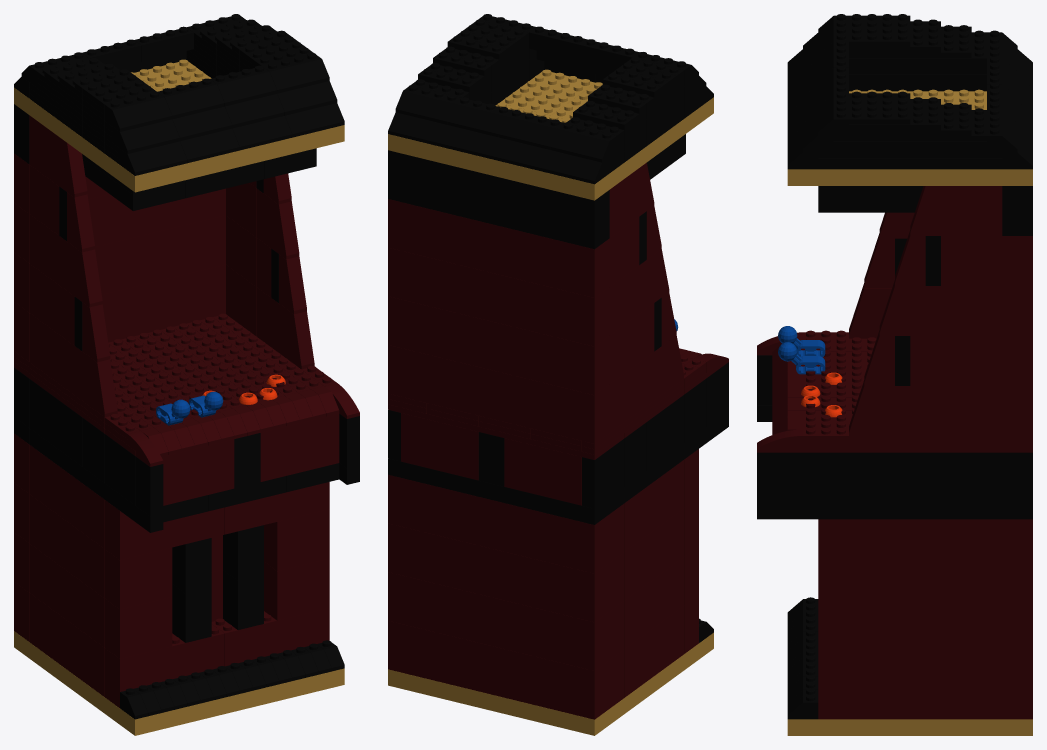
The model's file is Arcade machine Final.dae.
3 renders of one model, left to right at view 1: azimuth 30°, elevation 25°; view 2: azimuth 150°, elevation 25°; view 3: azimuth 270°, elevation 25°, orthographic. The views are drawn at different scales.
Parts seen in each view (by area): view 1: Part.377, Part.376, Part.84, Part.90, Part.83, Part.89, Part.307, Part.310, Part.193, Part.189, Part.82, Part.86 (+114 smaller); view 2: Part.379, Part.378, Part.142, Part.199, Part.166, Part.187, Part.114, Part.191, Part.195, Part.118, Part.311, Part.304 (+103 smaller); view 3: Part.331, Part.332, Part.334, Part.336, Part.338, Part.339, Part.303, Part.77, Part.306, Part.309, Part.305, Part.308 (+103 smaller).
Part boxes in pixels (x1,y1,x2,y2): Part.377: [260, 413, 339, 481]; Part.376: [161, 439, 234, 505]; Part.84: [105, 597, 172, 658]; Part.90: [105, 547, 172, 609]; Part.83: [264, 558, 329, 620]; Part.89: [264, 509, 329, 570]; Part.307: [74, 675, 239, 735]; Part.310: [74, 132, 239, 192]; Part.193: [134, 225, 186, 286]; Part.189: [134, 274, 186, 336]; Part.82: [105, 646, 172, 707]; Part.86: [105, 500, 172, 559]; Part.379: [504, 438, 581, 505]; Part.378: [401, 413, 478, 480]; Part.142: [543, 561, 609, 622]; Part.199: [543, 236, 609, 297]; Part.166: [543, 512, 609, 573]; Part.187: [543, 382, 609, 443]; Part.114: [543, 658, 609, 719]; Part.191: [543, 334, 609, 395]; Part.195: [543, 285, 609, 346]; Part.118: [543, 610, 609, 670]; Part.311: [491, 115, 654, 200]; Part.304: [491, 676, 654, 735]; Part.331: [941, 386, 1002, 435]; Part.332: [879, 386, 940, 435]; Part.334: [941, 336, 1002, 385]; Part.336: [941, 286, 1002, 335]; Part.338: [941, 236, 1002, 285]; Part.339: [941, 186, 1002, 235]; Part.303: [879, 502, 1002, 519]; Part.77: [757, 502, 879, 519]; Part.306: [787, 719, 910, 735]; Part.309: [787, 169, 910, 185]; Part.305: [910, 719, 1032, 735]; Part.308: [910, 169, 1032, 185].
Bounding box in the file's own units: 128 × 357 × 144.
